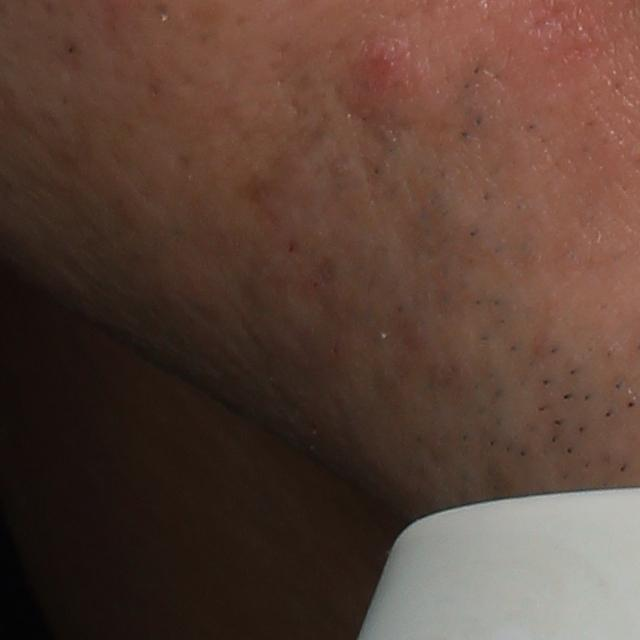papule: (357, 33, 425, 112)
